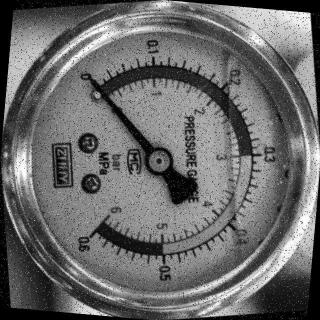gauge: (0, 0, 320, 320), (76, 64, 110, 98), (143, 145, 175, 177), (76, 223, 106, 250), (84, 73, 101, 91)
